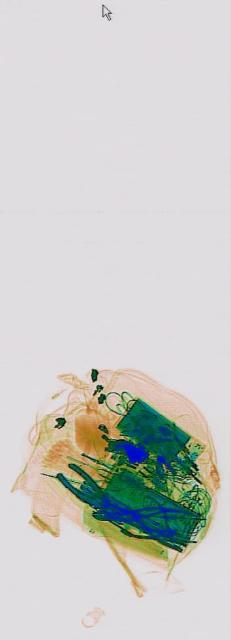Pliers: (90, 486, 181, 552), (55, 449, 113, 523), (128, 502, 189, 540)
